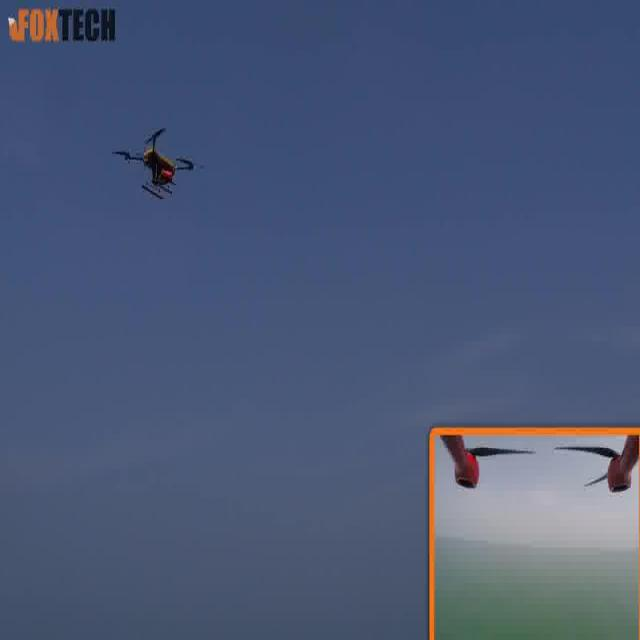drone: (114, 119, 208, 221)
